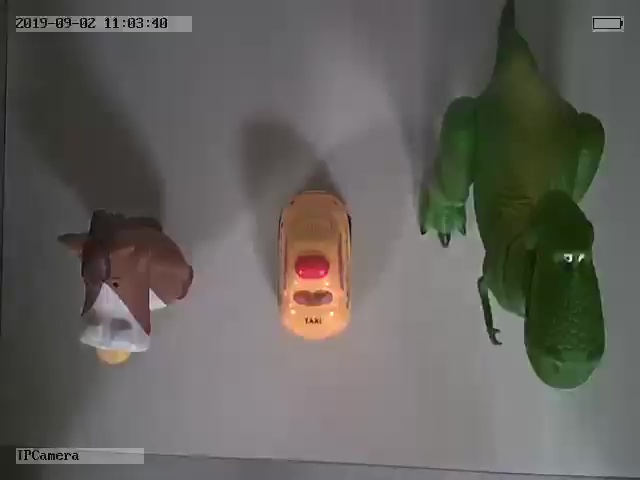car: (274, 186, 356, 339)
horse: (57, 210, 192, 367)
rex: (419, 15, 606, 390)
